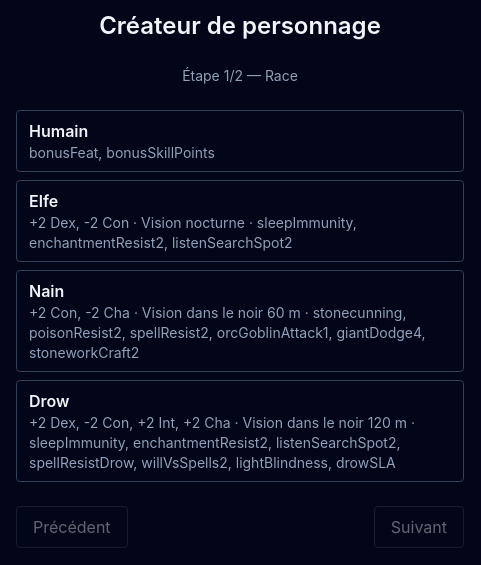
Scenario: CharacterCreator › sélectionner une race l’enregistre (autosave) et active Suivant
Step 1. Click the text "Elfe" → (44, 201), box [29,191,58,211]
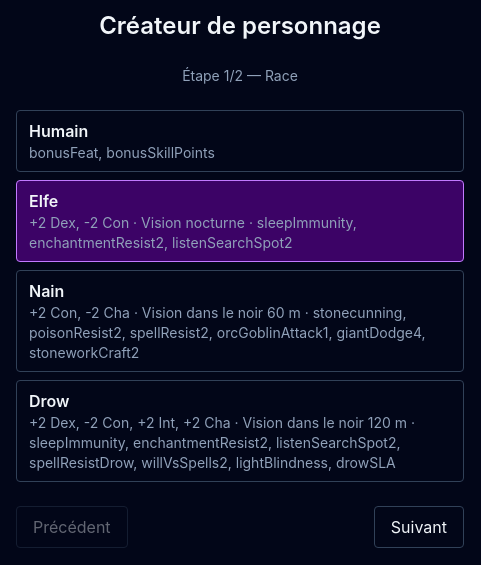
expect the button "Suivant" is enabled: met, box [374,506,464,548]
